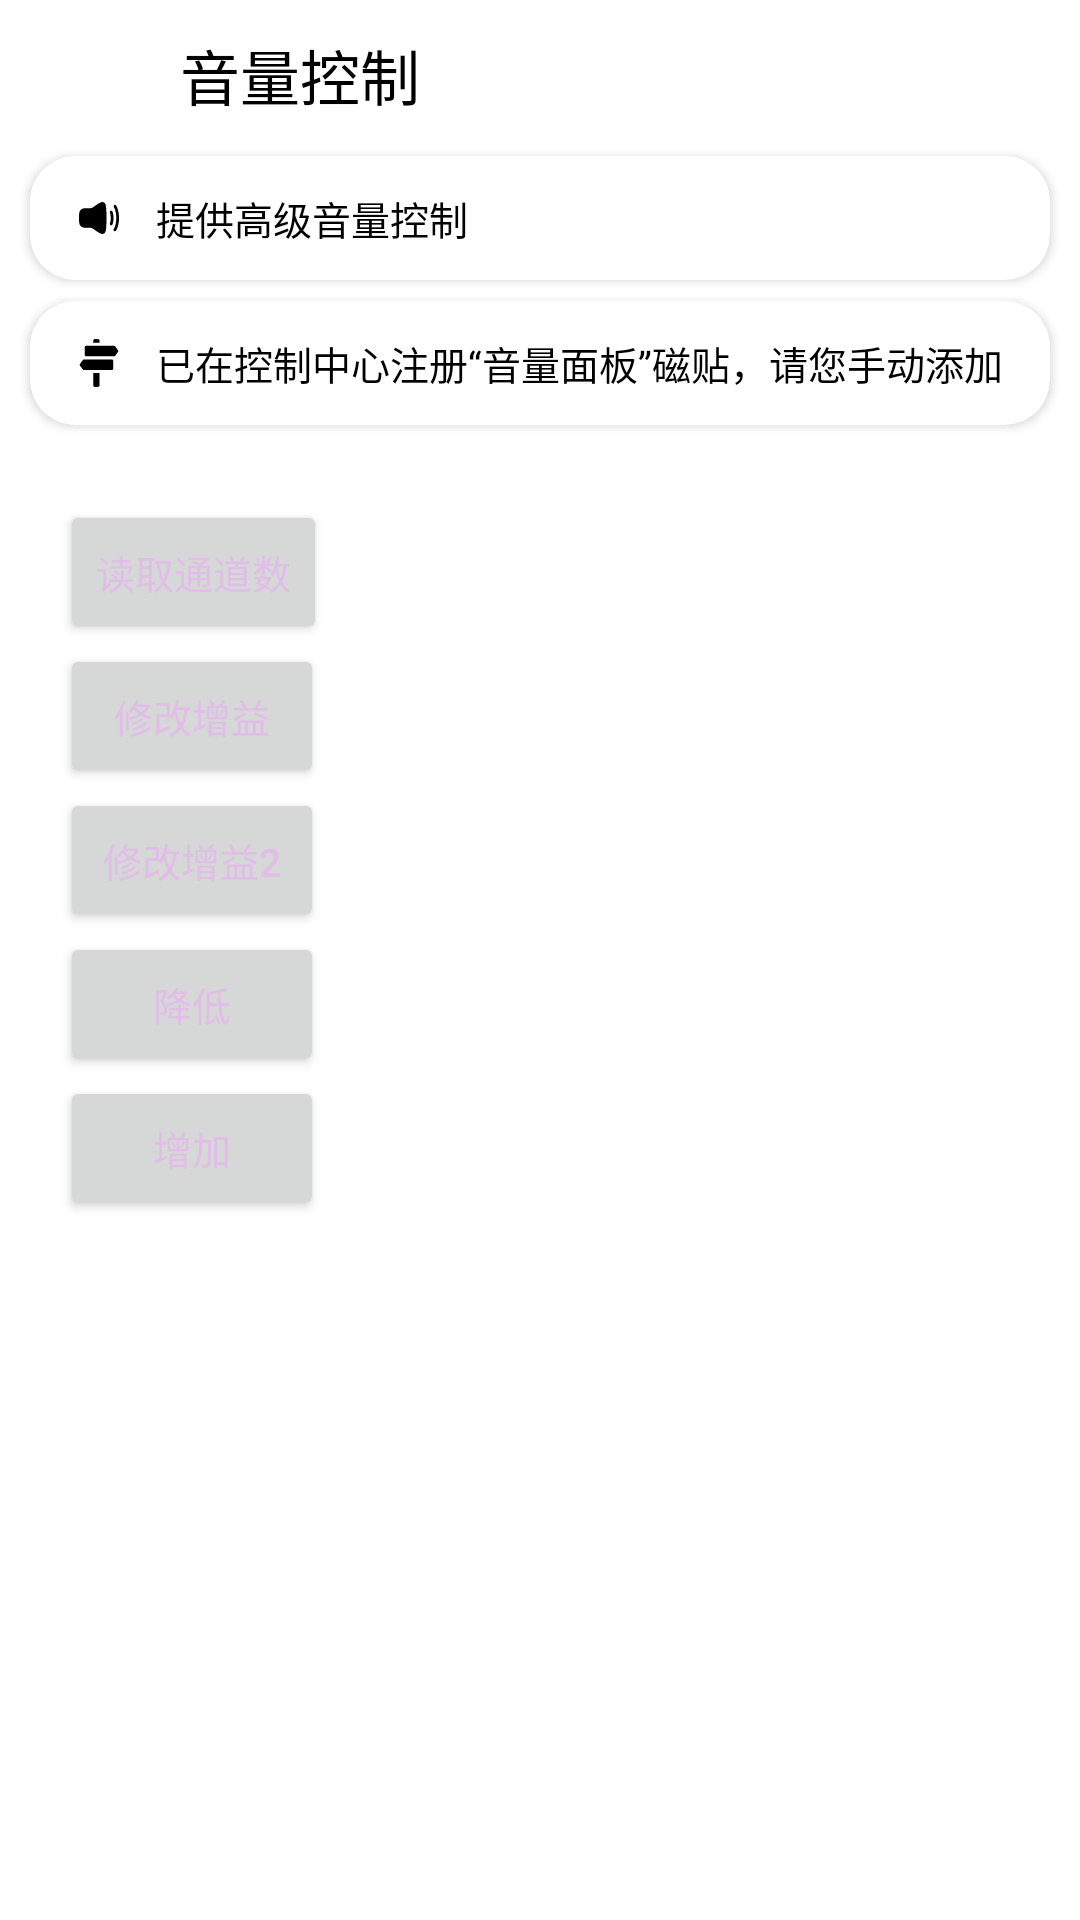

Screen size 1080 × 1920. Icon name, then its box in pixels as (x1, y1, x2, y2):
pointer: (79, 339, 119, 387)
tile volume: (79, 202, 119, 234)
